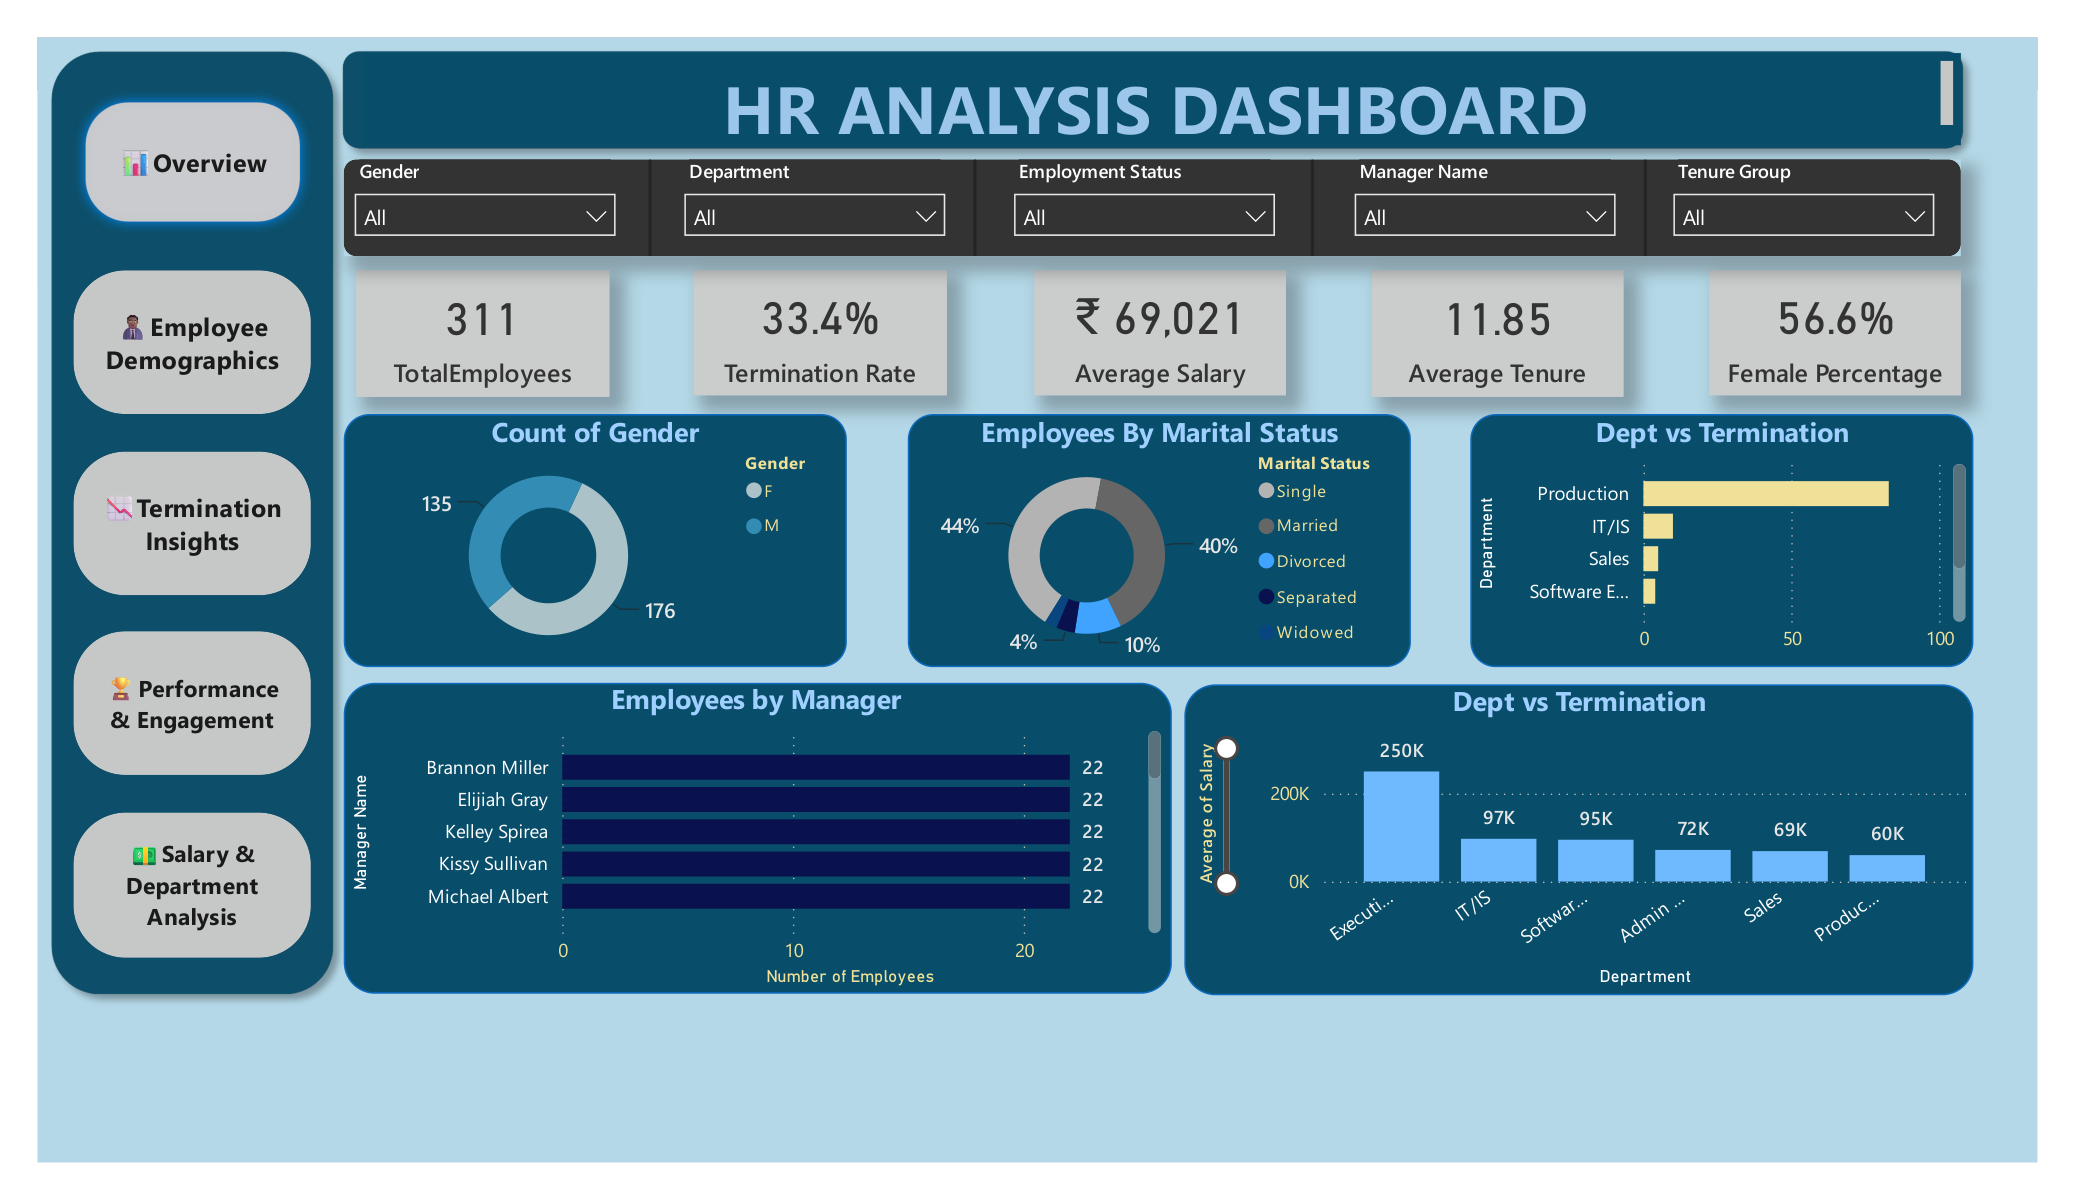

Layout of this report page (visuals, bound fields, positions):
{"tool":"powerbi","page":{"name":"Overview","canvas":[1280,720],"ordinal":0},"visuals":[{"type":"shape","box":[0,0,198,621.4],"z":0},{"type":"actionButton","box":[23.5,33.7,152,91.8],"z":1000},{"type":"actionButton","box":[23.1,149.2,152,91.8],"z":2000},{"type":"actionButton","box":[23.1,264.8,152,91.8],"z":3000},{"type":"actionButton","box":[23.1,380.4,152,91.8],"z":4000},{"type":"actionButton","box":[23.1,495.9,152,92.9],"z":5000},{"type":"shape","box":[187,0,1054,80],"z":6000},{"type":"textbox","box":[209,10,1022,59],"z":7000},{"type":"card","fields":{"Values":["HRDataset_v14.TotalEmployees"]},"box":[204,149,162,81],"z":8000},{"type":"card","fields":{"Values":["HRDataset_v14.Termination Rate"]},"box":[420.2,149,162,80],"z":9000},{"type":"card","fields":{"Values":["HRDataset_v14.Average Salary"]},"box":[637.5,149,161,80],"z":10000},{"type":"card","fields":{"Values":["HRDataset_v14.Average Tenure"]},"box":[853.8,149,161,81],"z":11000},{"type":"card","fields":{"Values":["HRDataset_v14.Female Percentage"]},"box":[1070,149,161,80],"z":12000},{"type":"shape","box":[196,78,1035,62],"z":13000},{"type":"slicer","fields":{"Values":["HRDataset_v14.Gender"]},"box":[198,78,177,64],"z":14000},{"type":"shape","box":[365,78,54,62],"z":15000},{"type":"slicer","fields":{"Values":["HRDataset_v14.Department"]},"box":[409,78,177,65],"z":16000},{"type":"slicer","fields":{"Values":["HRDataset_v14.Employment Status"]},"box":[620,78,177,64],"z":17000},{"type":"slicer","fields":{"Values":["HRDataset_v14.Manager Name"]},"box":[838,78,177,59],"z":18000},{"type":"slicer","fields":{"Values":["HRDataset_v14.Tenure Group"]},"box":[1042,78,177,62],"z":19000},{"type":"shape","box":[573,78,54,62],"z":20000},{"type":"shape","box":[789,78,54,62],"z":21000},{"type":"shape","box":[196,241,322,162],"z":22000},{"type":"shape","box":[1002,78,54,62],"z":23000},{"type":"donutChart","title":"Count of Gender","fields":{"Category":["HRDataset_v14.Gender"],"Y":["CountNonNull(HRDataset_v14.Gender)"]},"box":[196,241,322,162],"z":24000},{"type":"shape","box":[556.5,241,322,162],"z":25000},{"type":"shape","box":[917,241,322,162],"z":26000},{"type":"donutChart","title":" Employees By Marital Status","fields":{"Y":["CountNonNull(HRDataset_v14.Gender)"],"Category":["HRDataset_v14.Marital Status"]},"box":[557,241,322,162],"z":27000},{"type":"barChart","title":"Dept vs Termination","fields":{"Category":["HRDataset_v14.Department"],"Y":["Sum(HRDataset_v14.Is Terminated)"]},"box":[917,241,322,162],"z":28000},{"type":"shape","box":[196,413,530,199],"z":29000},{"type":"barChart","title":"Employees by Manager ","fields":{"Category":["HRDataset_v14.Manager Name"],"Y":["CountNonNull(HRDataset_v14.Employee ID)"]},"box":[196,412,528,200],"z":30000},{"type":"shape","box":[734,414,505,199],"z":31000},{"type":"clusteredColumnChart","title":"Dept vs Termination","fields":{"Y":["Avg(HRDataset_v14.Salary)"],"Category":["HRDataset_v14.Department"]},"box":[734,413,505,199],"z":32000}]}

Visuals, with their boxes in screenshot pixels (x1, y1, x2, y2):
shape: l=32, t=38, r=338, b=996
actionButton: l=69, t=90, r=303, b=231
actionButton: l=68, t=268, r=302, b=409
actionButton: l=68, t=446, r=302, b=588
actionButton: l=68, t=624, r=302, b=766
actionButton: l=68, t=803, r=302, b=946
shape: l=321, t=38, r=1946, b=161
textbox: l=355, t=53, r=1931, b=144
card - HRDataset_v14.TotalEmployees: l=347, t=268, r=597, b=392
card - HRDataset_v14.Termination Rate: l=680, t=268, r=930, b=391
card - HRDataset_v14.Average Salary: l=1015, t=268, r=1264, b=391
card - HRDataset_v14.Average Tenure: l=1349, t=268, r=1597, b=392
card - HRDataset_v14.Female Percentage: l=1682, t=268, r=1931, b=391
shape: l=335, t=158, r=1931, b=254
slicer - HRDataset_v14.Gender: l=338, t=158, r=611, b=257
shape: l=595, t=158, r=679, b=254
slicer - HRDataset_v14.Department: l=663, t=158, r=936, b=258
slicer - HRDataset_v14.Employment Status: l=988, t=158, r=1261, b=257
slicer - HRDataset_v14.Manager Name: l=1325, t=158, r=1598, b=249
slicer - HRDataset_v14.Tenure Group: l=1639, t=158, r=1912, b=254
shape: l=916, t=158, r=999, b=254
shape: l=1249, t=158, r=1332, b=254
shape: l=335, t=409, r=831, b=659
shape: l=1578, t=158, r=1661, b=254
"Count of Gender" donutChart: l=335, t=409, r=831, b=659
shape: l=891, t=409, r=1387, b=659
shape: l=1446, t=409, r=1943, b=659
" Employees By Marital Status" donutChart: l=891, t=409, r=1388, b=659
"Dept vs Termination" barChart: l=1446, t=409, r=1943, b=659
shape: l=335, t=675, r=1152, b=982
"Employees by Manager " barChart: l=335, t=673, r=1149, b=982
shape: l=1164, t=676, r=1943, b=983
"Dept vs Termination" clusteredColumnChart: l=1164, t=675, r=1943, b=982
